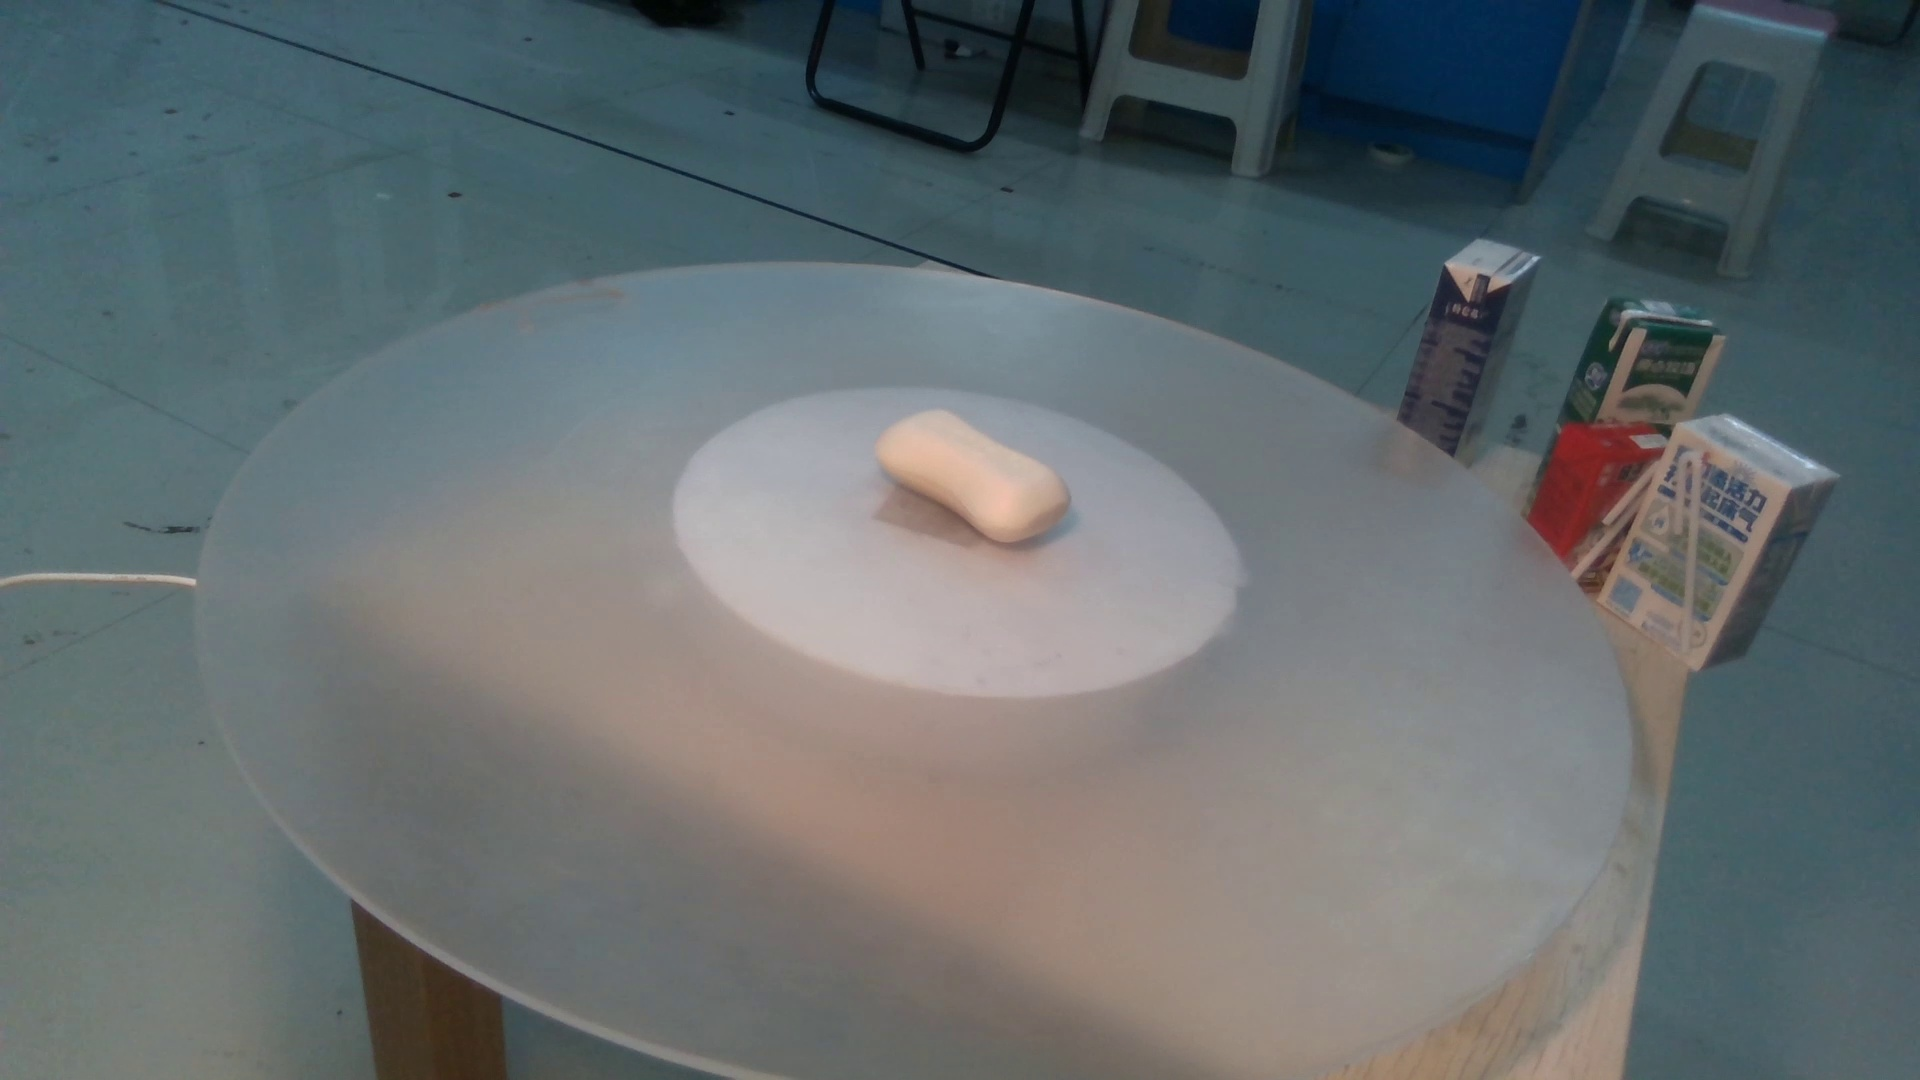CA003_1: (856, 396, 1147, 553)
